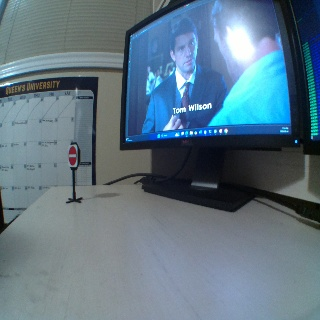sign_noentry: (67, 144, 78, 166)
